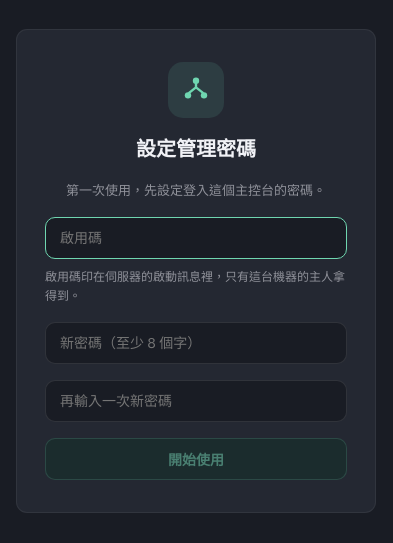
Test case: FirstRunPage › surfaces a wrong claim token as an inline error, no entry
Type "not-the-token" into the field labelled "啟用碼" at coordinates (196, 238), box x1=45 y1=217 x2=347 y2=259
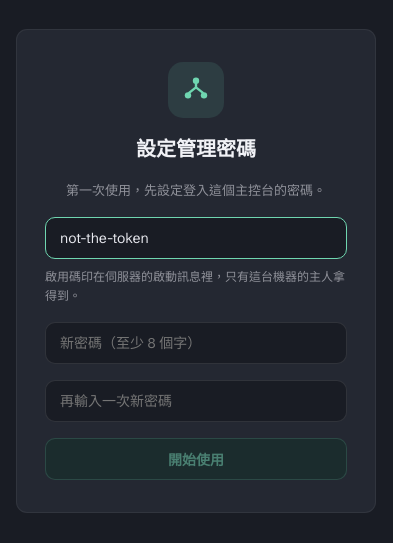
Type "brand-new-pass" into the password field labelled "新密碼（至少 8 個字）" at coordinates (196, 343), box x1=45 y1=322 x2=347 y2=364
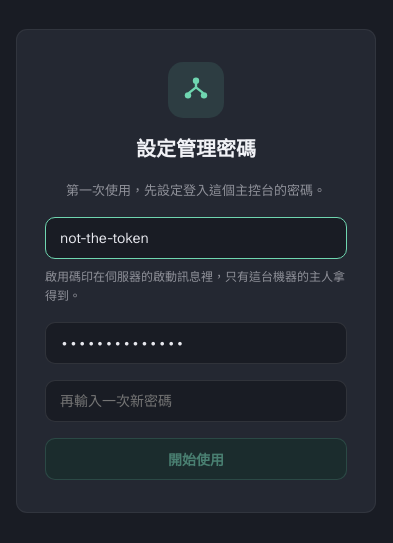
Type "brand-new-pass" into the password field labelled "再輸入一次新密碼" at coordinates (196, 401), box x1=45 y1=380 x2=347 y2=422
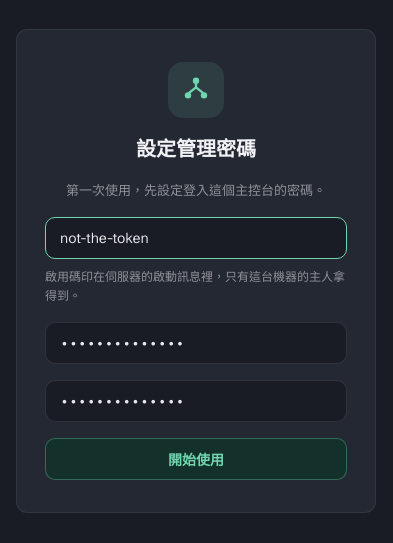
Click the button "開始使用" at coordinates (196, 459), box x1=45 y1=438 x2=347 y2=480
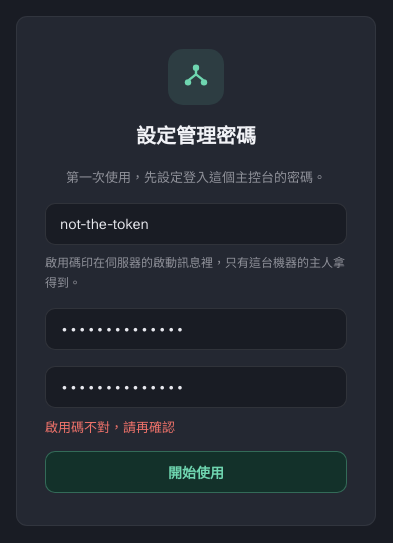
Check: the text "啟用碼不對，請再確認" is shown, box x1=45 y1=419 x2=175 y2=435
